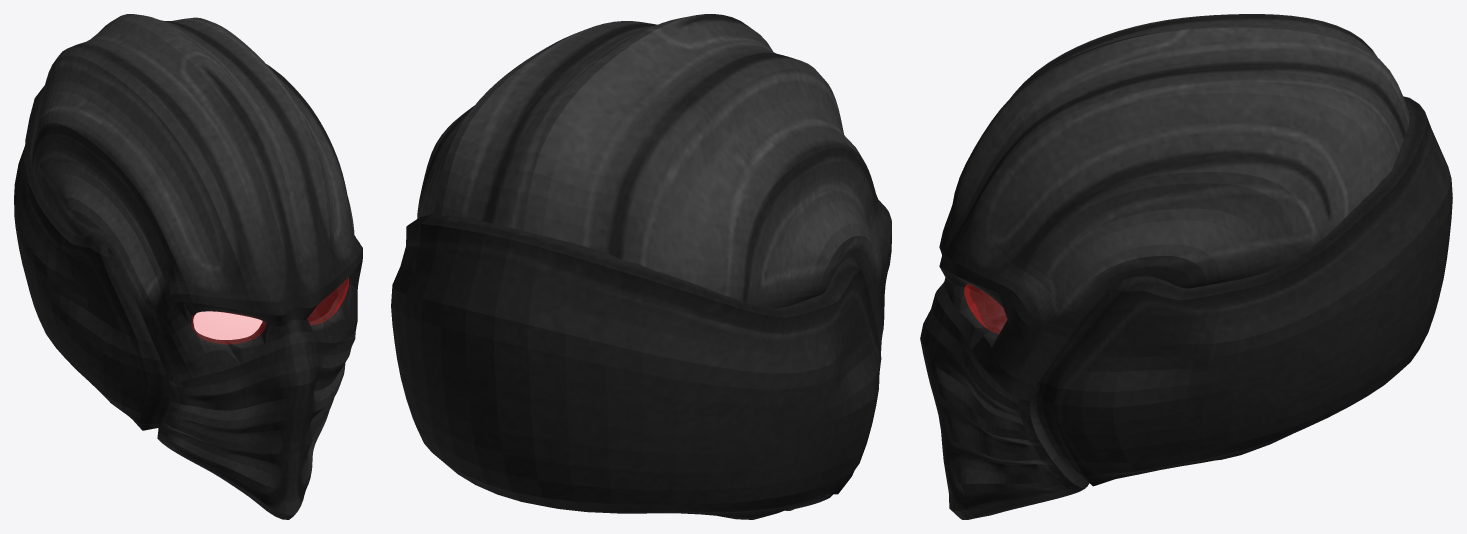
Rendered from titan-head.glb.
3 renders of one model, left to right at view 1: azimuth 30°, elevation 25°; view 2: azimuth 150°, elevation 25°; view 3: azimuth 270°, elevation 25°, orthographic. The views are drawn at different scales.
Visible parts, largest first — view 1: cybernetic_helmet; view 2: cybernetic_helmet; view 3: cybernetic_helmet.
Boxes of the visible parts, left/top/right/bottom form: cybernetic_helmet: left=14, top=14, right=362, bottom=519; cybernetic_helmet: left=391, top=14, right=891, bottom=519; cybernetic_helmet: left=920, top=14, right=1452, bottom=519.
Bounding box in the file's own units: 0.204 × 0.2807 × 0.2765.
3 materials, 3 textured.
